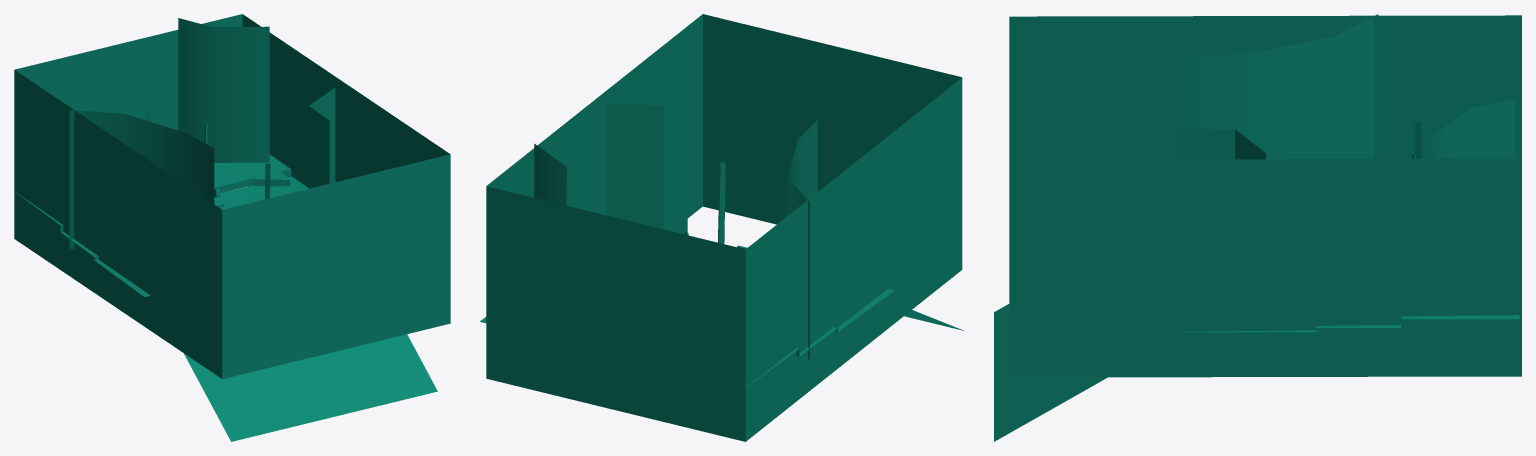
File: collision_tama.x.obj
3 views of the same model, side by side, from view 1: azimuth 30°, elevation 25°; view 2: azimuth 150°, elevation 25°; view 3: azimuth 270°, elevation 25° (orthographic). The views are drawn at different scales.
Bounding box in the file's own units: 7384 × 7106 × 11042.
